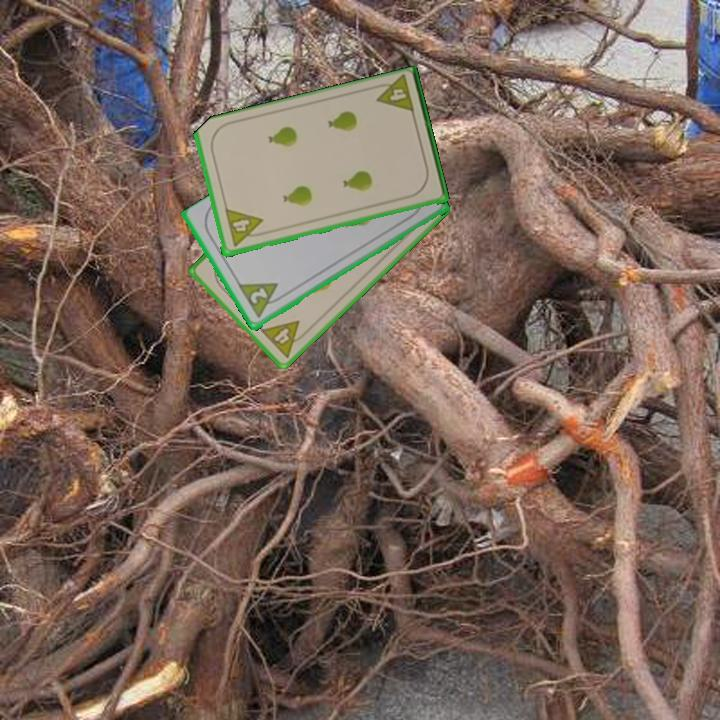2p: (235, 279, 288, 321)
4p: (257, 317, 311, 361), (370, 73, 417, 117), (222, 206, 267, 250)
